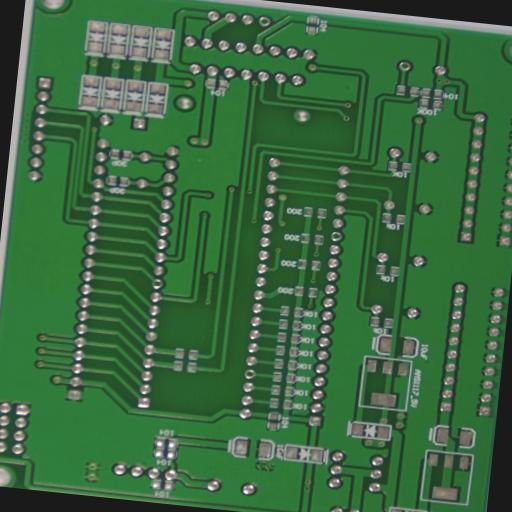missing_hole: (328, 227, 345, 243), (148, 276, 166, 291), (256, 13, 274, 27), (242, 366, 259, 380), (397, 59, 412, 72)
